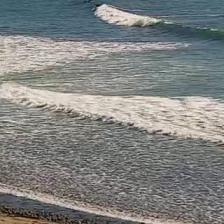surfer: (84, 0, 94, 4), (95, 3, 100, 7)
